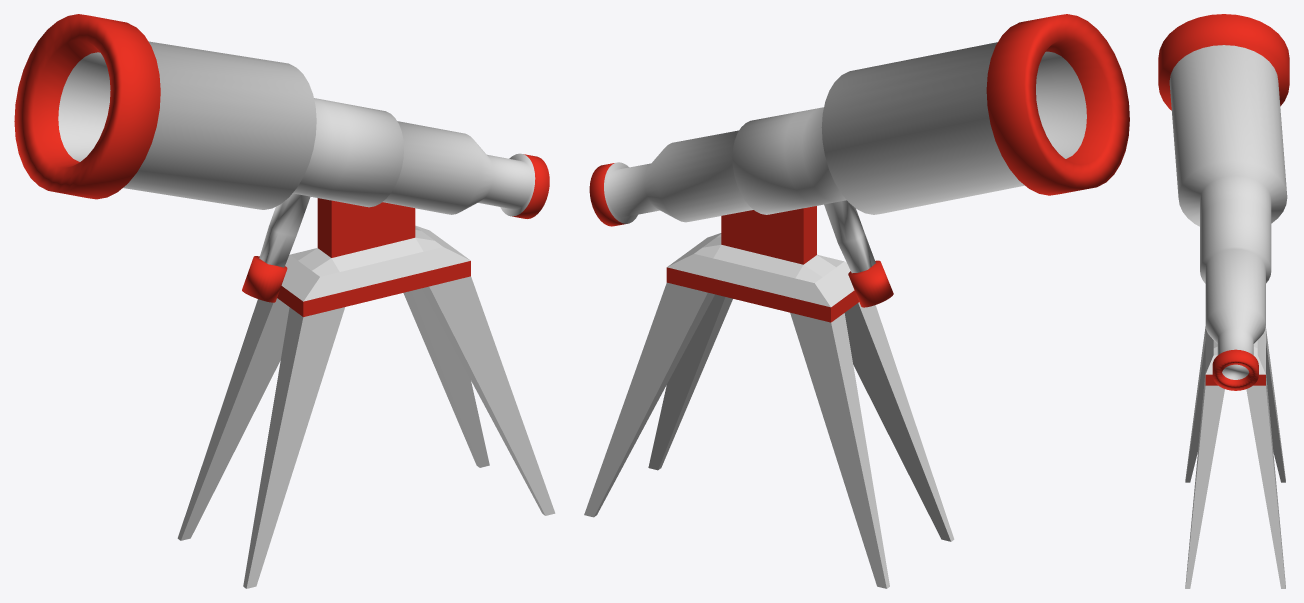
The model's file is telescope.fbx.
3 renders of one model, left to right at view 1: azimuth 30°, elevation 25°; view 2: azimuth 150°, elevation 25°; view 3: azimuth 270°, elevation 25°, orthographic. The views are drawn at different scales.
Parts seen in each view (by area): view 1: Cube; view 2: Cube; view 3: Cube.
Boxes of the visible parts, x1,y1,x2,y2 form: Cube: [14, 14, 555, 588]; Cube: [584, 14, 1129, 588]; Cube: [1158, 14, 1289, 588].
Size of the model in its own units: 1423 by 1543 by 436.
